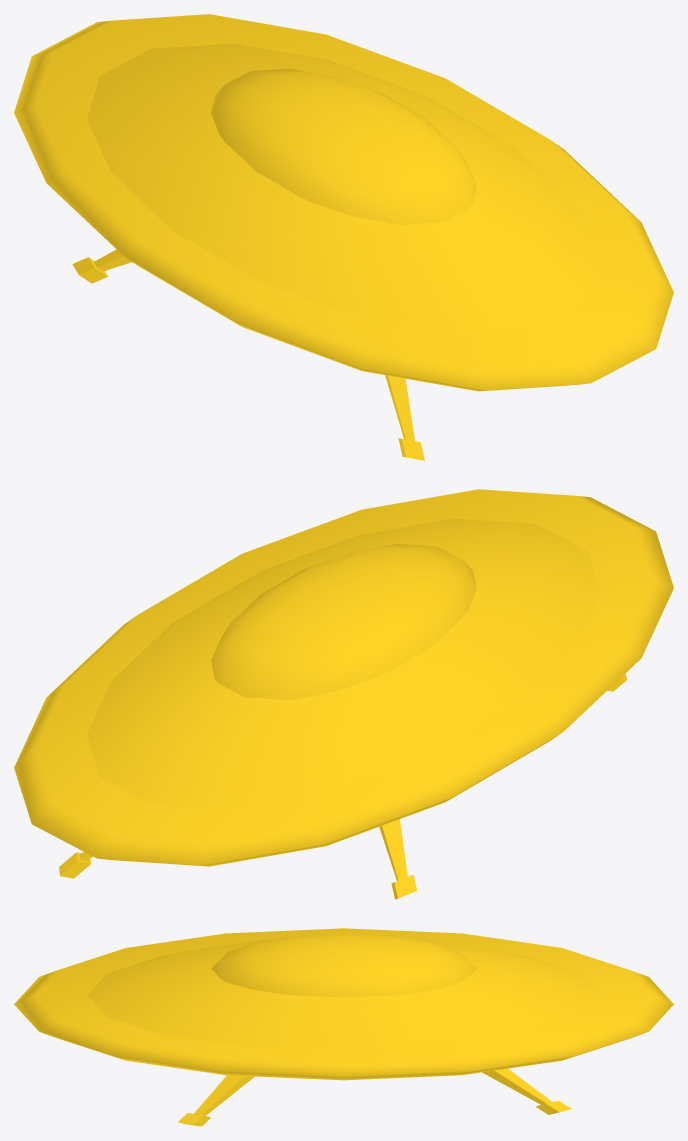
Rendered from ShipOnWheels.glb.
3 views of the same model, one above another, from view 1: azimuth 30°, elevation 25°; view 2: azimuth 150°, elevation 25°; view 3: azimuth 270°, elevation 25° (orthographic). The views are drawn at different scales.
Visible parts, largest first — view 1: Mesh.121; view 2: Mesh.121; view 3: Mesh.121.
Part boxes in pixels (<box>): Mesh.121: <box>14,14,673,460</box>; Mesh.121: <box>14,489,673,899</box>; Mesh.121: <box>14,928,673,1126</box>.
Size of what is drawn, in the model's own units: 2.81 by 1.18 by 5.46.
1 material, 1 textured.
